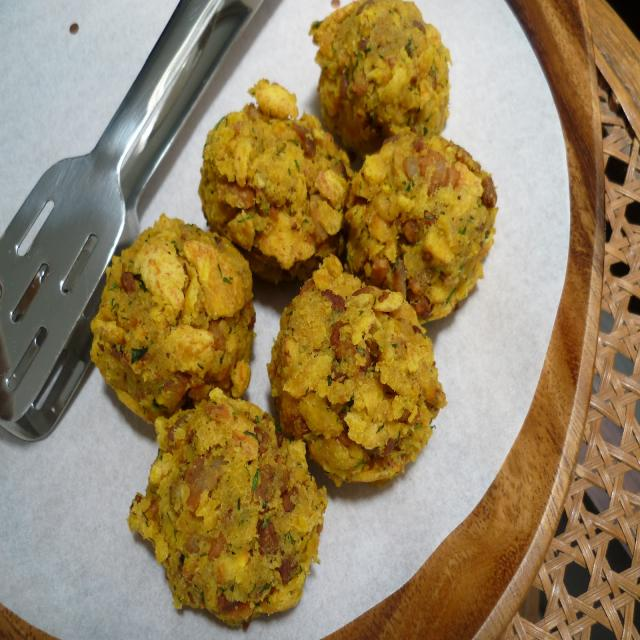platano: (274, 271, 442, 484)
